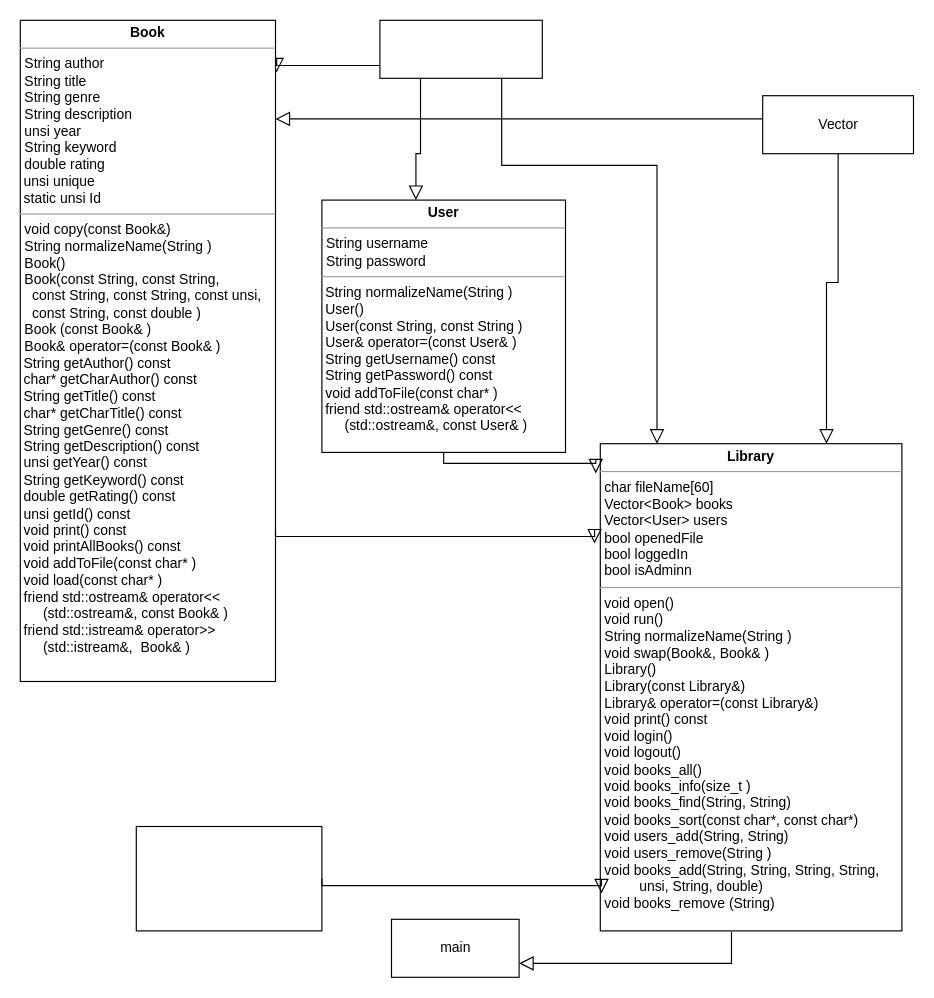
Some shapes in this 934 by 998 pixel diagram are drawn without their labels. The centre of each missing label's shape, as x and y in pixels:
"Command void help()" goes at (x=228, y=878).
"String" goes at (x=460, y=48).
